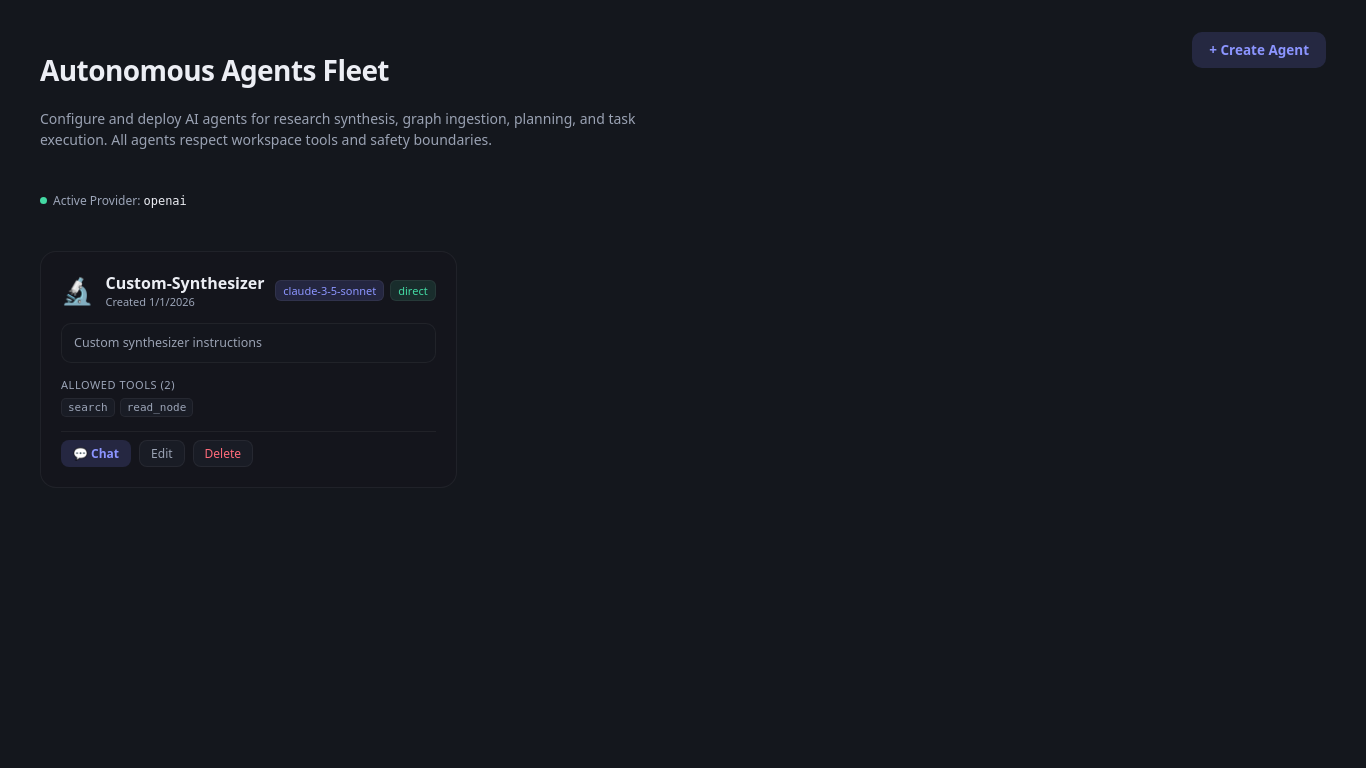
AgentsView › renders agent cards and opens create modal
Expected: the heading "Autonomous Agents Fleet" is shown, top-left (40, 51), bottom-right (389, 89)
Expected: the text "Custom-Synthesizer" is shown, top-left (105, 272), bottom-right (264, 294)
Step 1. Click the button "+ Create Agent" → (1259,50), box top-left (1192, 32), bottom-right (1326, 68)
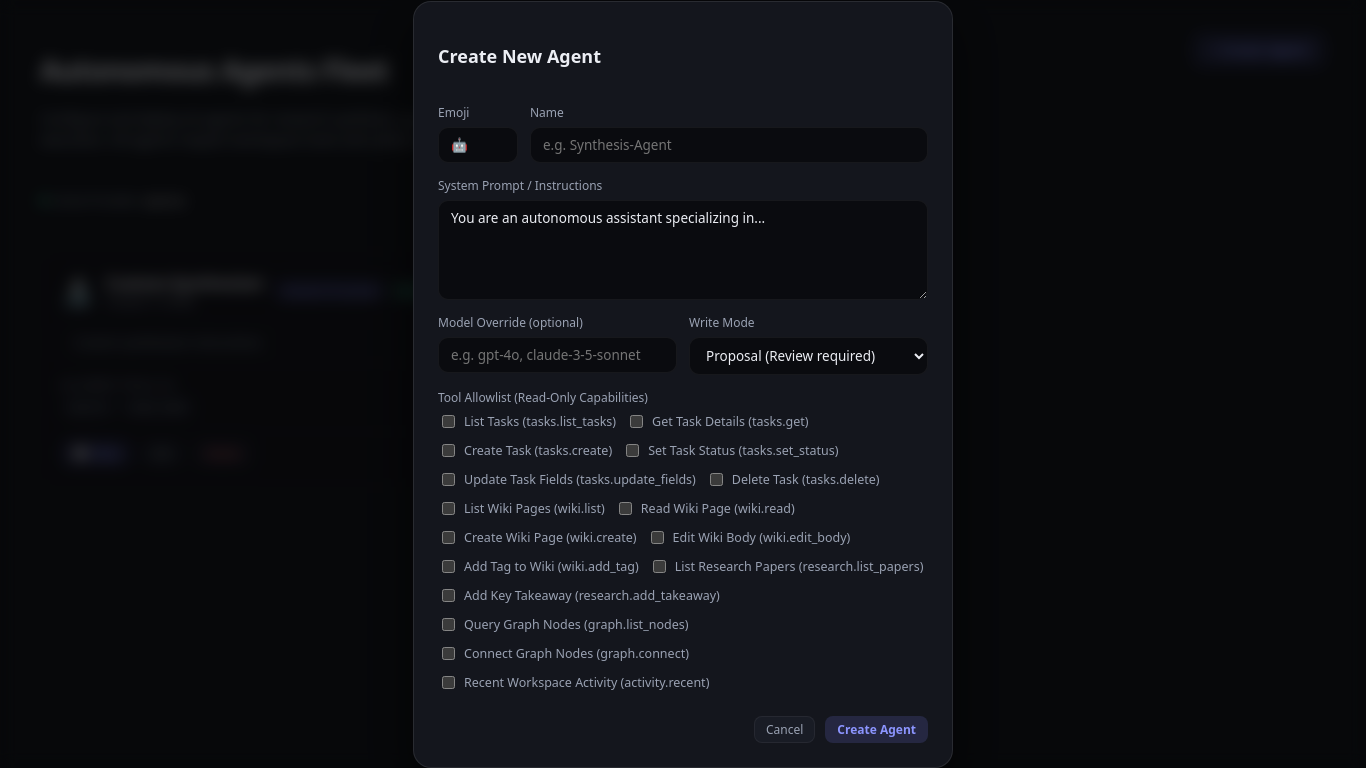
Now the dialog is shown
Now the heading "Create New Agent" is shown, box top-left (438, 44), bottom-right (601, 68)
